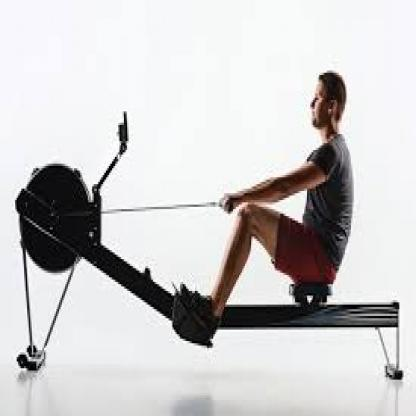Seated Cable Rows: (13, 42, 416, 386)
